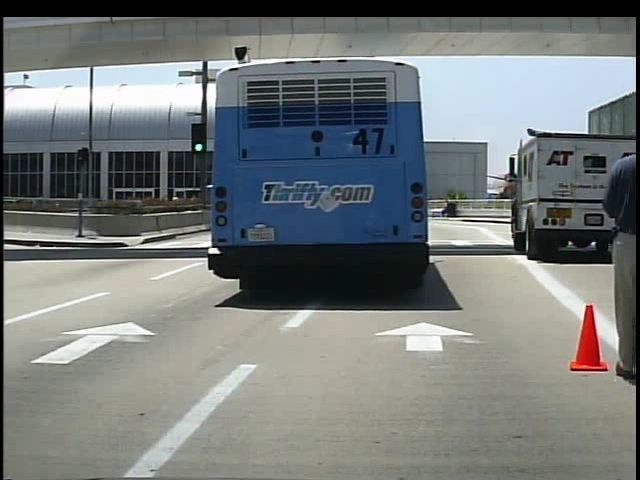person: (615, 115, 636, 386)
